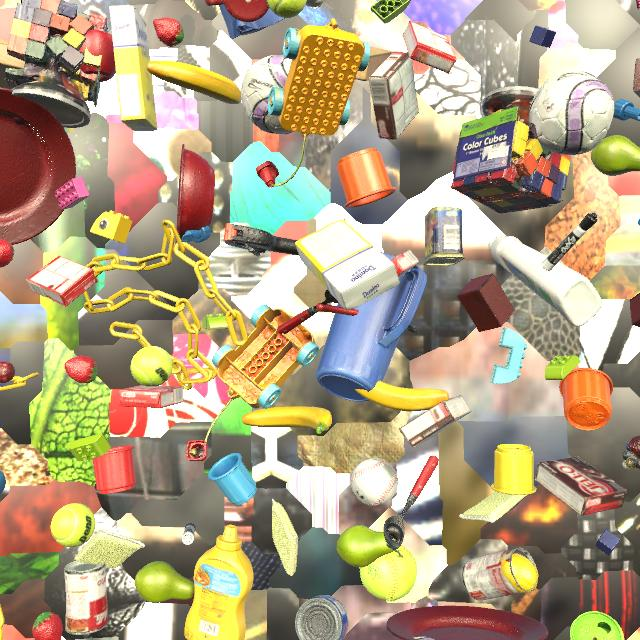ycb_004_sugar_box: (295, 219, 400, 311), (109, 5, 158, 131)
ycb_005_tomato_soup_can: (462, 548, 538, 601), (64, 561, 108, 635)
ycb_006_mustard_bottle: (184, 525, 253, 640)
ycb_007_tuna_fish_can: (295, 595, 349, 640)
ycb_008_pudding_box: (535, 456, 627, 516), (369, 51, 419, 140), (399, 395, 472, 447)
ycb_009_gelatin_box: (26, 256, 98, 307), (403, 21, 457, 74), (119, 385, 183, 408), (391, 249, 419, 279)
ycb_010_potted_meat_can: (423, 206, 465, 266)
ycb_011_banana: (147, 61, 241, 104), (355, 381, 449, 411), (242, 406, 332, 434)
ycb_012_strawberry: (64, 356, 97, 384), (153, 18, 184, 47), (32, 612, 63, 640), (0, 239, 14, 268)
ycb_013_apple: (80, 30, 116, 82)
ycb_014_lemon: (499, 554, 538, 593)
ycb_016_pear: (336, 525, 395, 568), (135, 561, 194, 603), (591, 135, 640, 176)
ycb_018_plum: (13, 117, 28, 125)
